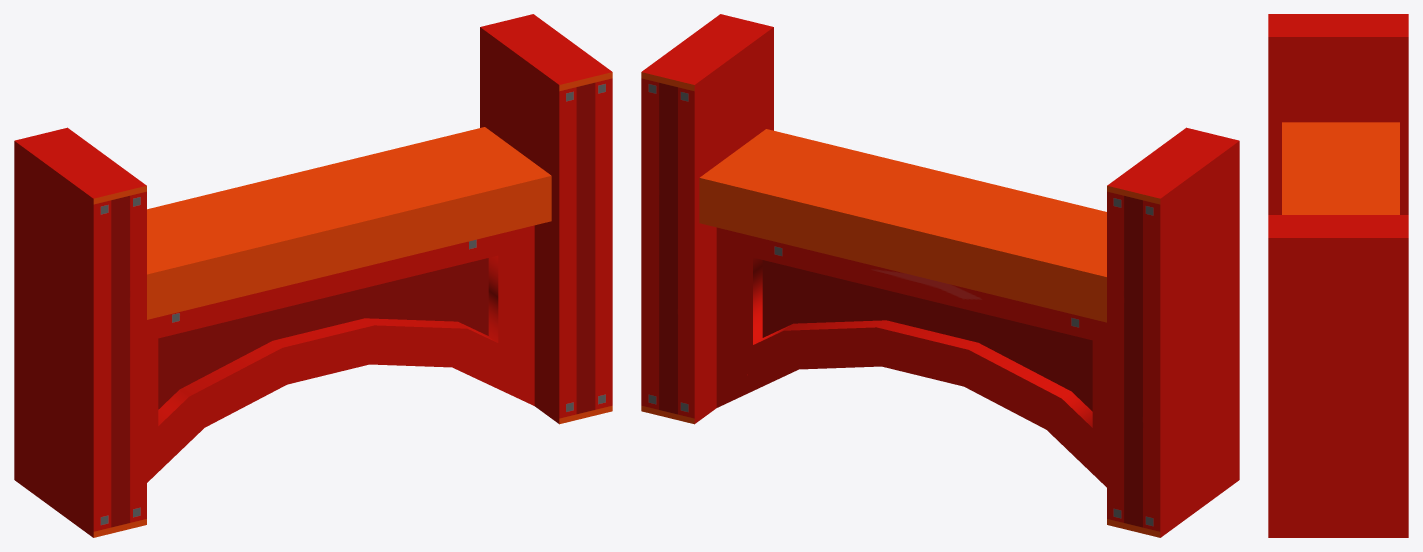
Rendered from Bridge2Beam3.fbx.
3 renders of one model, left to right at view 1: azimuth 30°, elevation 25°; view 2: azimuth 150°, elevation 25°; view 3: azimuth 270°, elevation 25°, orthographic. The views are drawn at different scales.
Parts seen in each view (by area): view 1: Bridge2Beam3; view 2: Bridge2Beam3; view 3: Bridge2Beam3.
Boxes of the visible parts, x1,y1,x2,y2 form: Bridge2Beam3: (14, 14, 612, 537); Bridge2Beam3: (641, 14, 1239, 537); Bridge2Beam3: (1268, 14, 1408, 537).
Bounding box in the file's own units: 18.15 × 11.33 × 4.8.
